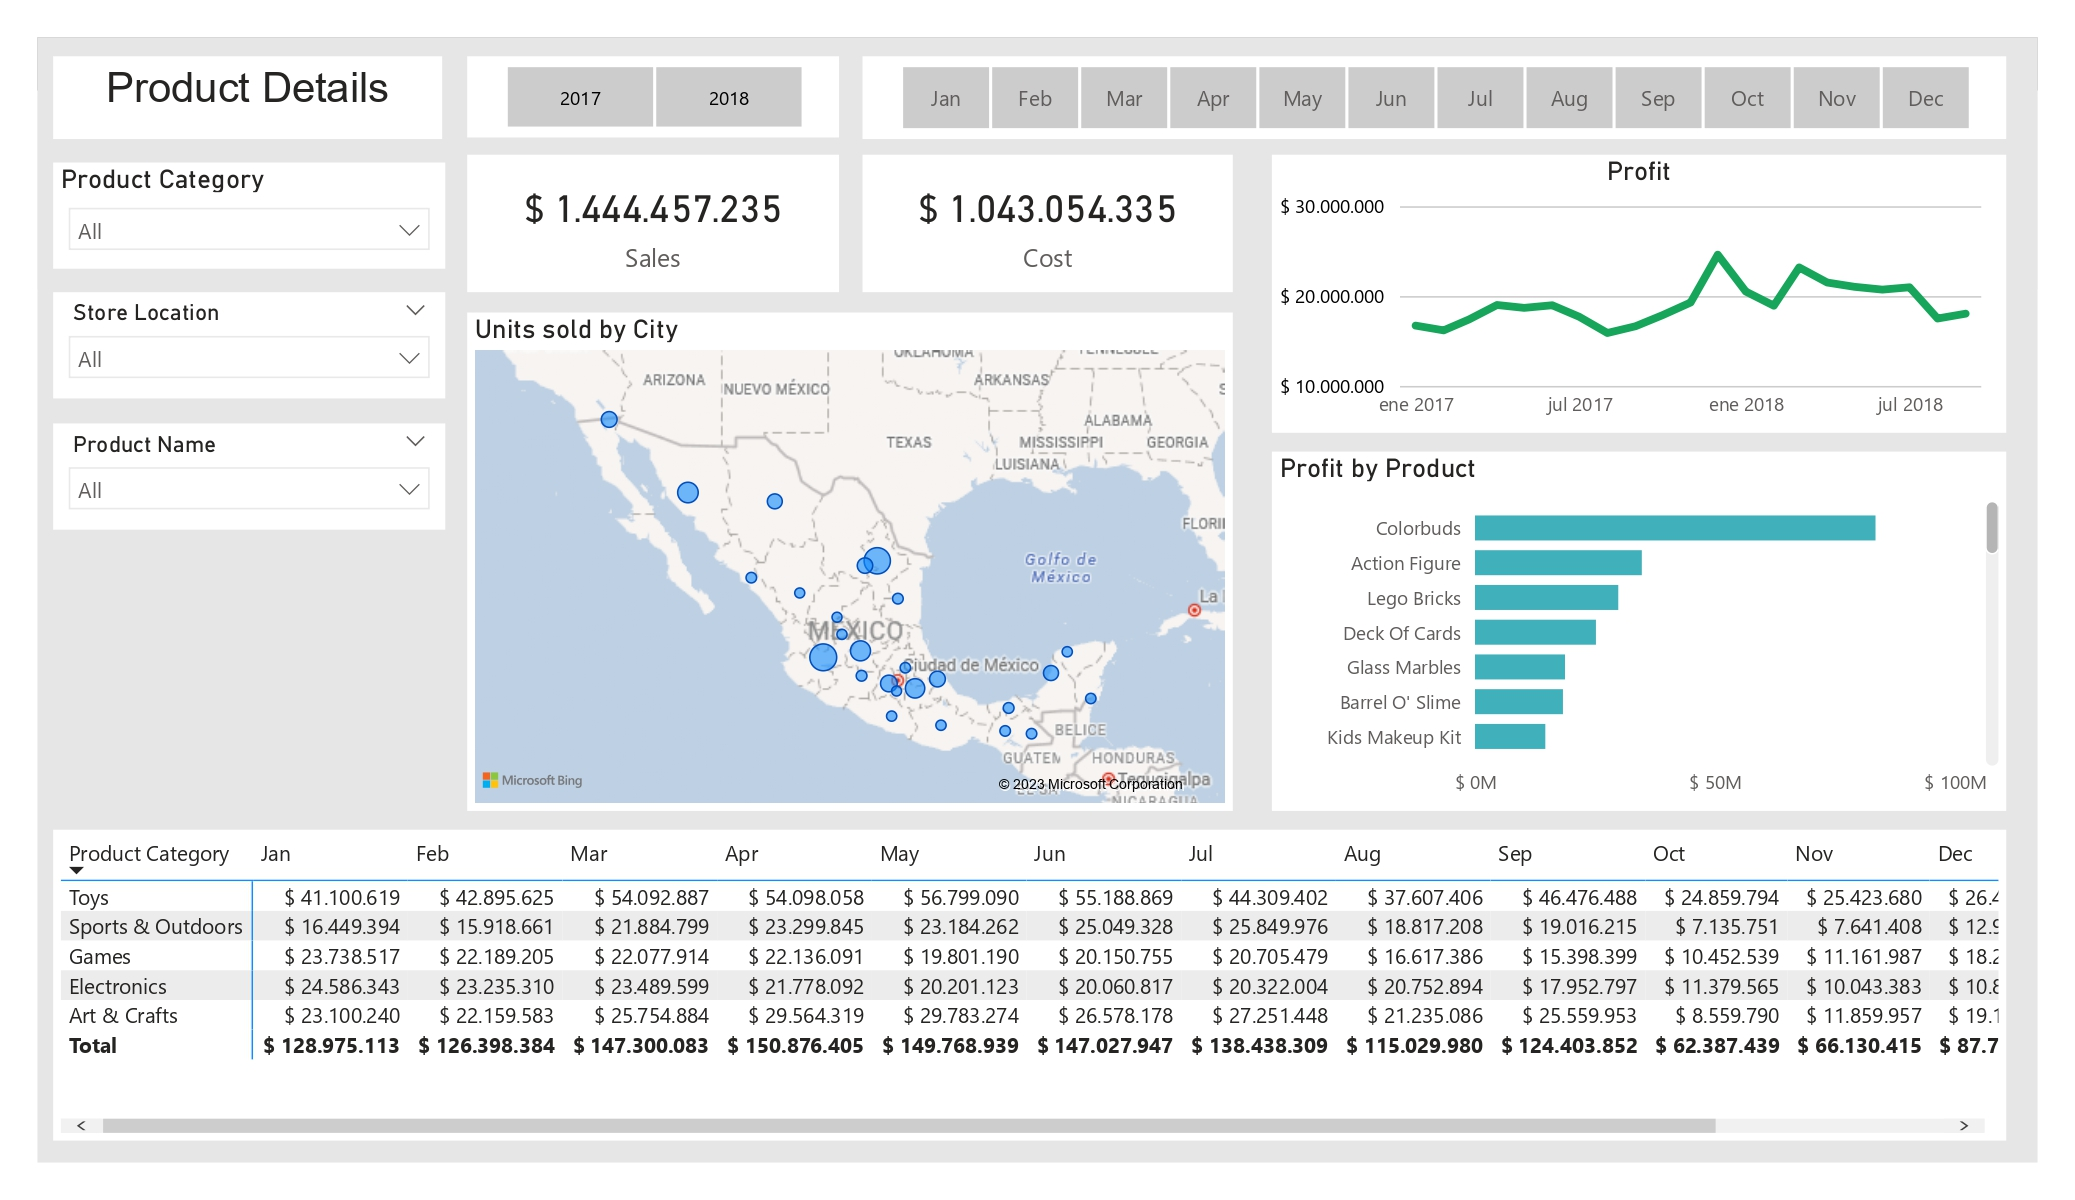

Layout of this report page (visuals, bound fields, positions):
{"tool":"powerbi","page":{"name":"Product details","canvas":[1280,720],"ordinal":2},"visuals":[{"type":"pivotTable","fields":{"Values":["Sum(sales.Total Price)"],"Rows":["products.Product_Category"],"Columns":["sales.Short Month"]},"box":[9.8,507.2,1250.2,198.6],"z":0},{"type":"slicer","title":"Product Category","fields":{"Values":["products.Product_Category"]},"box":[9.8,79.8,250.9,68.3],"z":1000},{"type":"slicer","fields":{"Values":["products.Product_Name"]},"box":[9.8,246.5,250.9,68.3],"z":2000},{"type":"slicer","fields":{"Values":["stores.Store_Location"]},"box":[9.8,163.2,250.9,68.3],"z":3000},{"type":"slicer","fields":{"Values":["sales.Date.Variation.Date Hierarchy.Year"]},"box":[274.9,12.4,237.6,51.4],"z":4000},{"type":"slicer","fields":{"Values":["sales.Short Month"]},"box":[527.6,12.4,732.4,52.3],"z":5000},{"type":"lineChart","title":"Profit","fields":{"Category":["sales.Date.Variation.Date Hierarchy.Year","sales.Date.Variation.Date Hierarchy.Quarter","sales.Date.Variation.Date Hierarchy.Month"],"Y":["sales.price - Cost"]},"box":[790,75.4,470,177.3],"z":6000},{"type":"clusteredBarChart","title":"Profit by Product","fields":{"Category":["products.Product_Name"],"Y":["sales.price - Cost"]},"box":[790,265.1,470,229.7],"z":7000},{"type":"card","title":"Sales","fields":{"Values":["sales.Sales"]},"box":[274.9,75.4,237.6,87.8],"z":8000},{"type":"card","fields":{"Values":["sales.Cost"]},"box":[527.6,75.4,237.6,87.8],"z":9000},{"type":"textbox","box":[9.8,12.4,249.2,52.3],"z":10000},{"type":"map","title":"Units sold by City","fields":{"Category":["stores.Store_City"],"Size":["Sum(sales.Units)"]},"box":[274.9,175.6,490.3,319.2],"z":11000}]}

Visuals, with their boxes in screenshot pixels (x1, y1, x2, y2):
pivotTable - Sum(sales.Total Price) x products.Product_Category: {"left": 53, "top": 830, "right": 2006, "bottom": 1140}
"Product Category" slicer: {"left": 53, "top": 162, "right": 445, "bottom": 269}
slicer - products.Product_Name: {"left": 53, "top": 423, "right": 445, "bottom": 529}
slicer - stores.Store_Location: {"left": 53, "top": 292, "right": 445, "bottom": 399}
slicer - sales.Date.Variation.Date Hierarchy.Year: {"left": 467, "top": 57, "right": 838, "bottom": 137}
slicer - sales.Short Month: {"left": 862, "top": 57, "right": 2006, "bottom": 139}
"Profit" lineChart: {"left": 1272, "top": 155, "right": 2006, "bottom": 432}
"Profit by Product" clusteredBarChart: {"left": 1272, "top": 452, "right": 2006, "bottom": 811}
"Sales" card: {"left": 467, "top": 155, "right": 838, "bottom": 292}
card - sales.Cost: {"left": 862, "top": 155, "right": 1233, "bottom": 292}
textbox: {"left": 53, "top": 57, "right": 442, "bottom": 139}
"Units sold by City" map: {"left": 467, "top": 312, "right": 1233, "bottom": 811}
